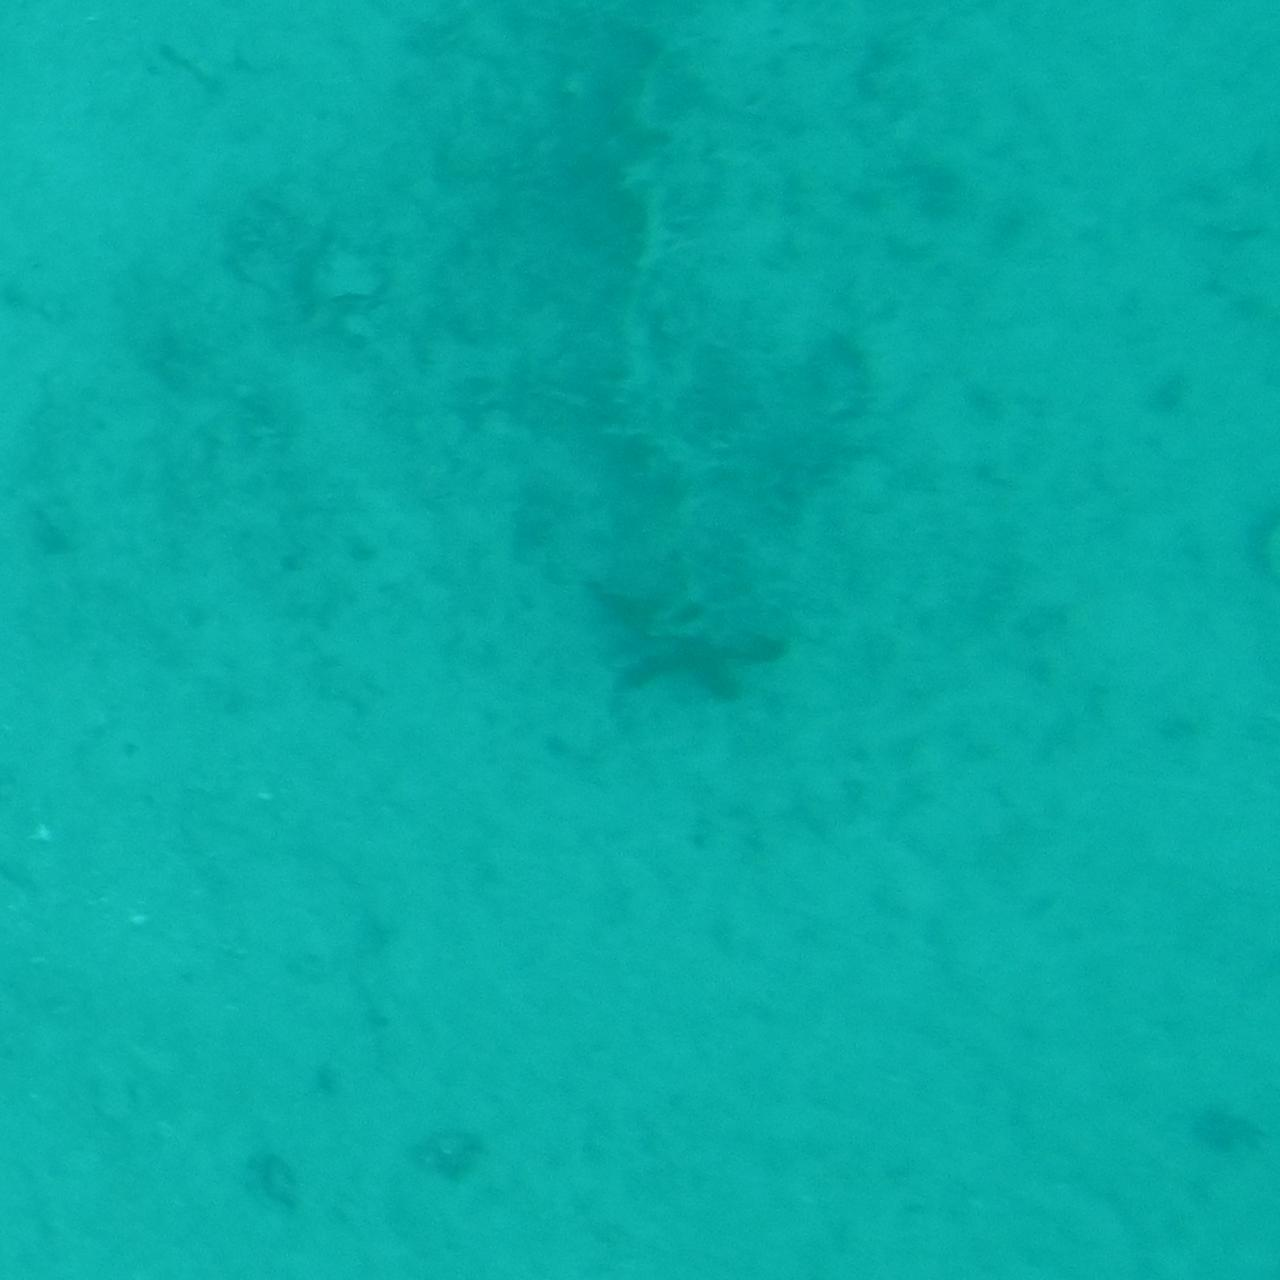Asteroidea: (557, 563, 802, 717)
